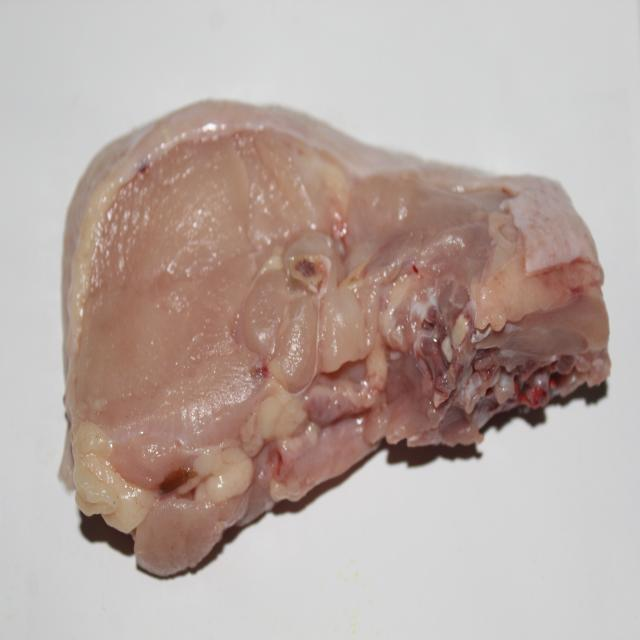chicken: (62, 110, 611, 579)
